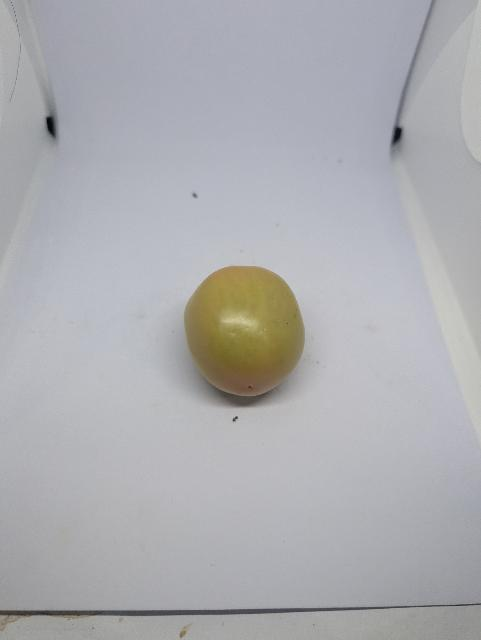breaker: (184, 266, 305, 396)
